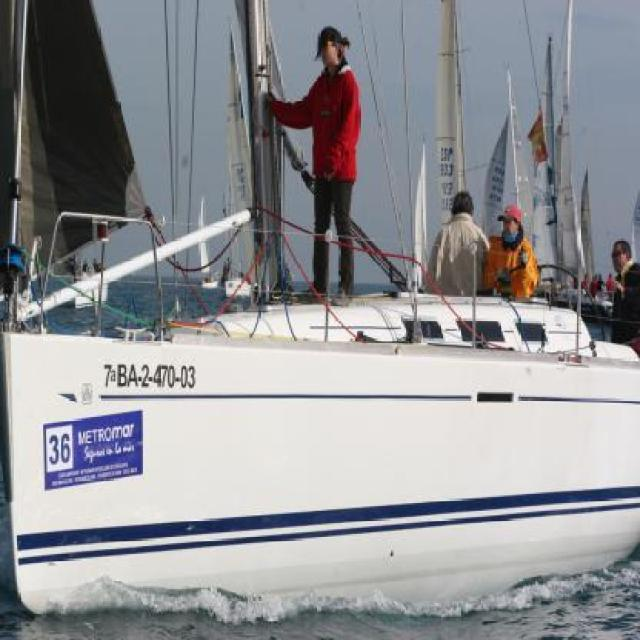sem_oculos: (495, 212, 524, 232), (320, 36, 348, 56), (608, 247, 627, 261)
